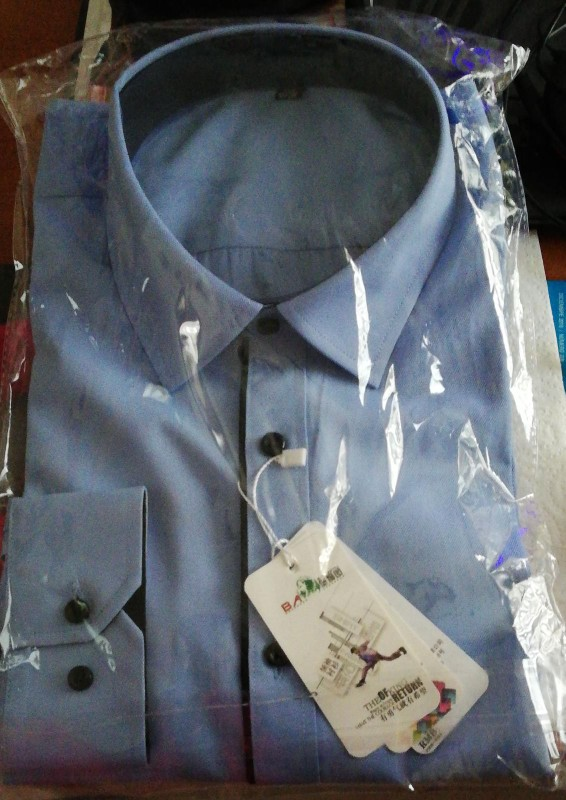shirts: (20, 15, 561, 800)
